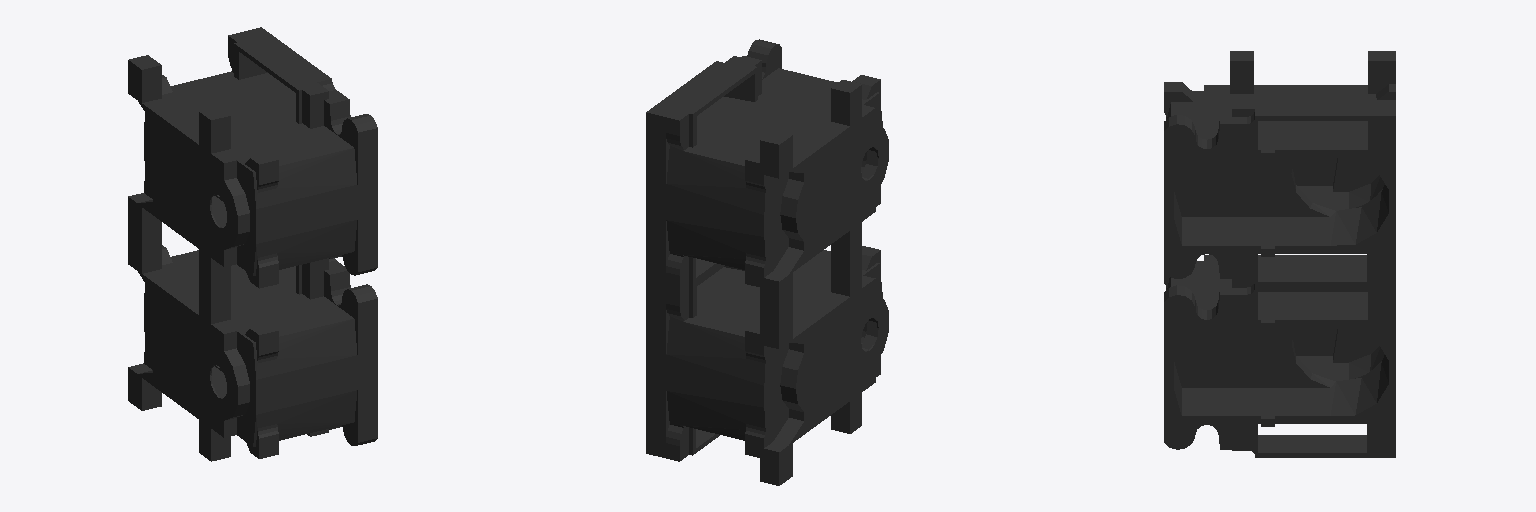
The model's file is Knee_1__1_mesh_3.obj.
3 views of the same model, side by side, from view 1: azimuth 30°, elevation 25°; view 2: azimuth 150°, elevation 25°; view 3: azimuth 270°, elevation 25° (orthographic).
Size of the model in its own units: 0.0282 by 0.066 by 0.0408.